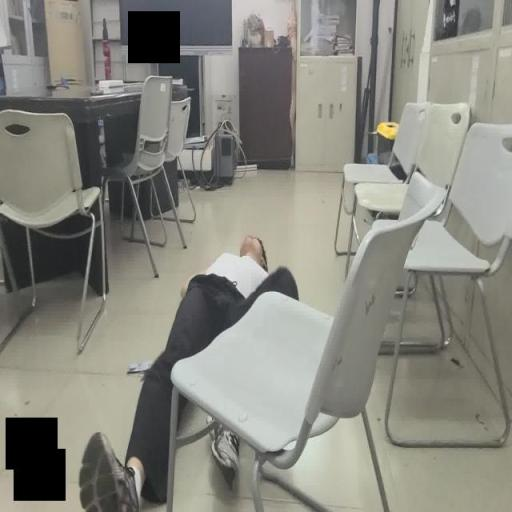Fall: (78, 231, 302, 512)
